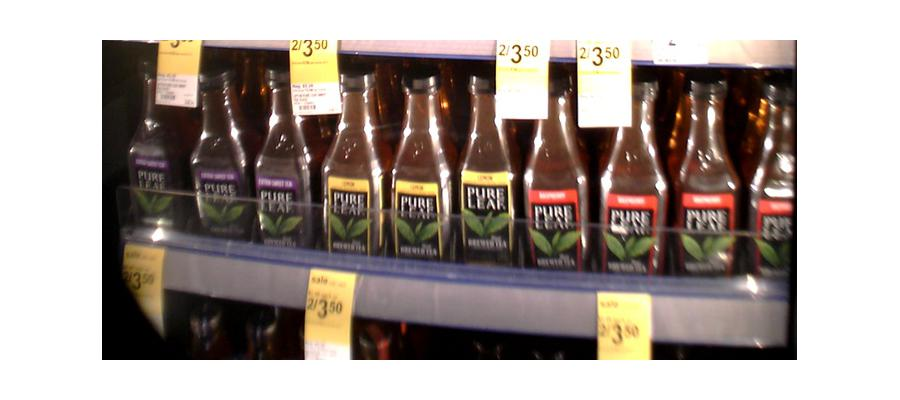bottle: (601, 80, 670, 282), (522, 78, 592, 276), (319, 66, 386, 261), (676, 72, 738, 281), (249, 66, 317, 253), (389, 68, 452, 262), (459, 71, 518, 267), (127, 69, 190, 237), (192, 62, 250, 244), (747, 83, 793, 291)
